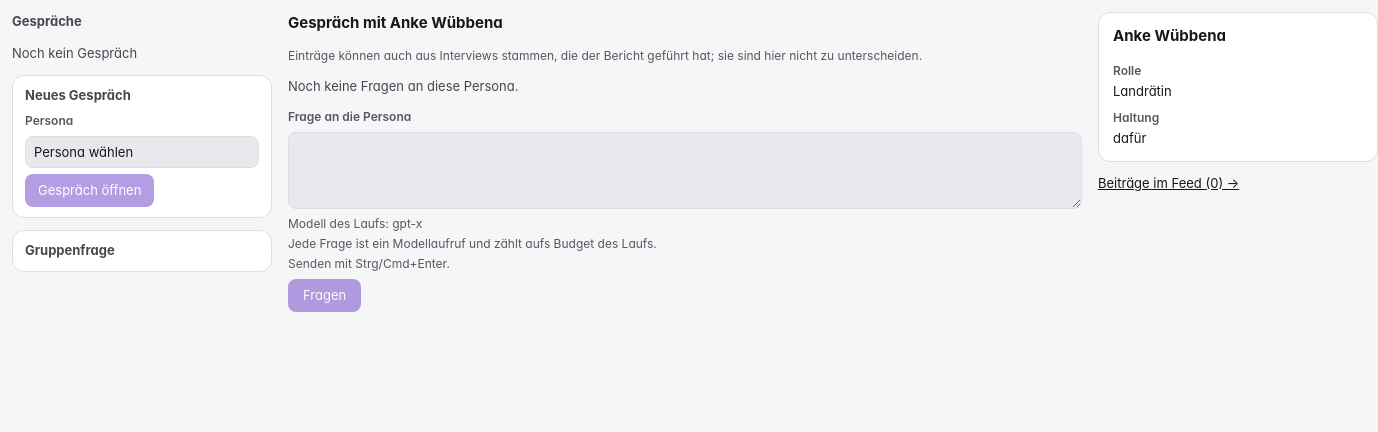
RunInterviewsView › zeigt einen Fehler je Antwort statt einer leeren Antwort
The width and height of the screenshot is (1378, 432).
In the text box with test id "ask-input": (685, 170) left=288, top=132, right=1082, bottom=208, type "Hallo"
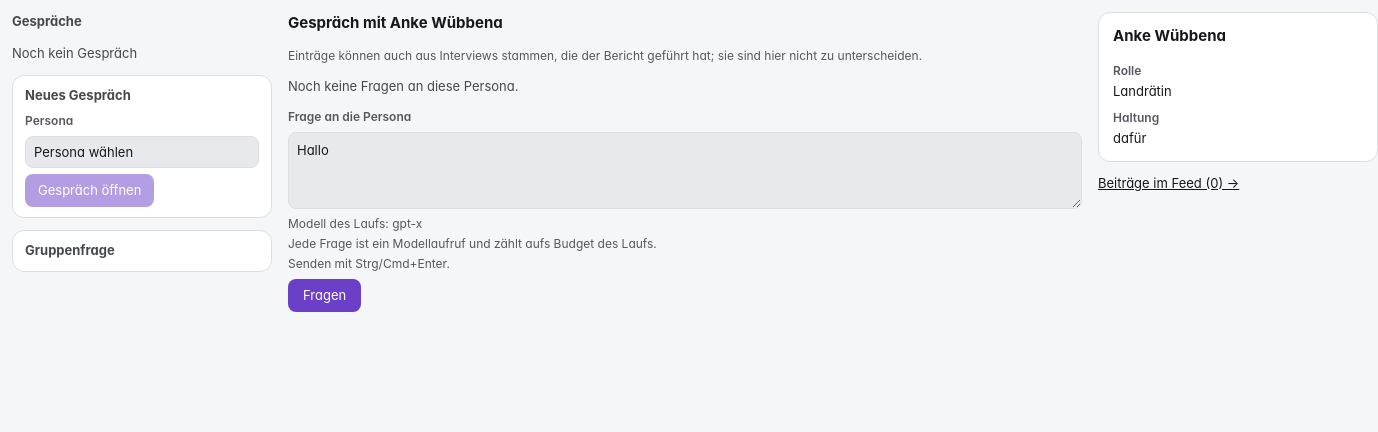
Submit the form with test id "ask-form", box left=288, top=108, right=1082, bottom=312
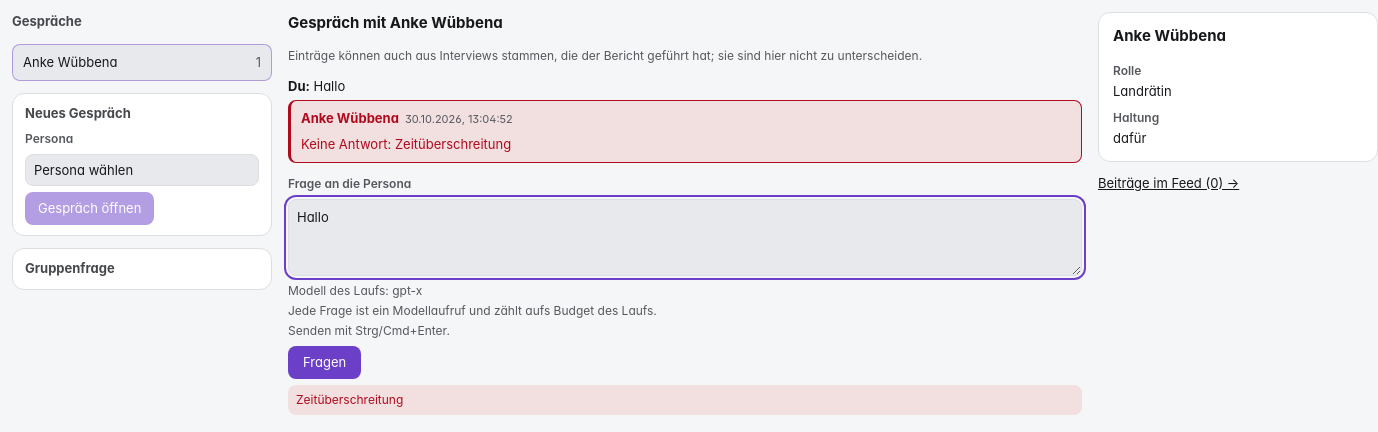
Check: the message with test id "turn-error" shows "Zeitüberschreitung", box left=301, top=136, right=511, bottom=152
